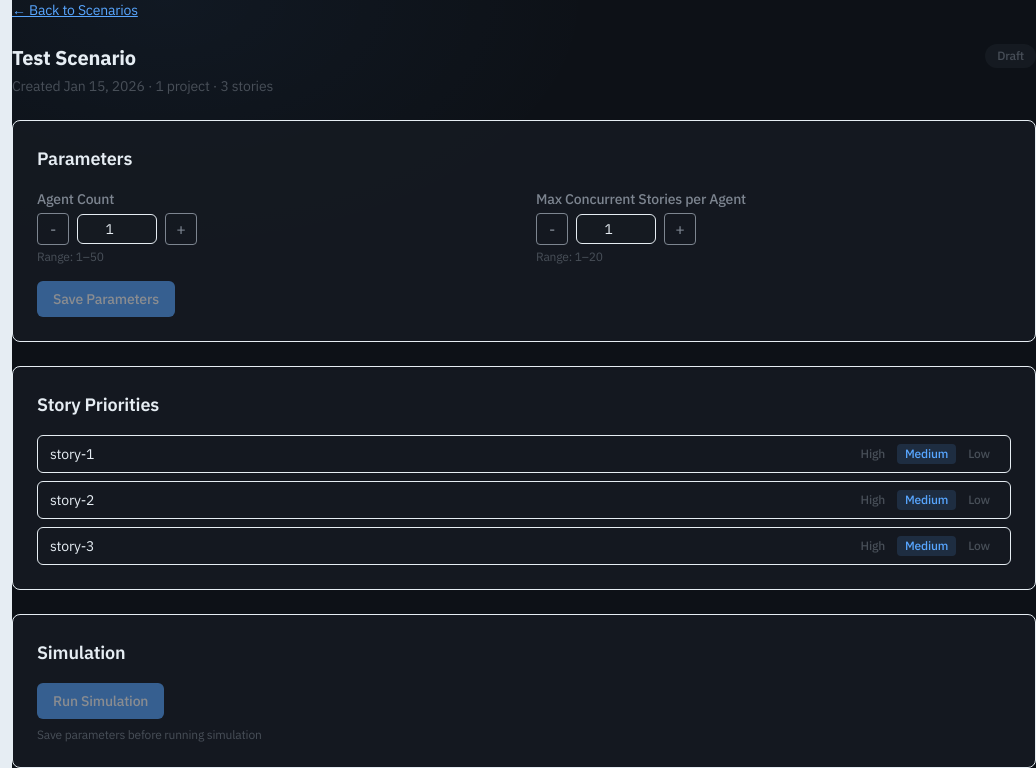
Test case: ScenarioDetail › priority change tracks the specific story and direction
Change story-2 to Low priority
Click the button "Low" in the row of "story-2" at (979, 500), box [960,490,998,510]
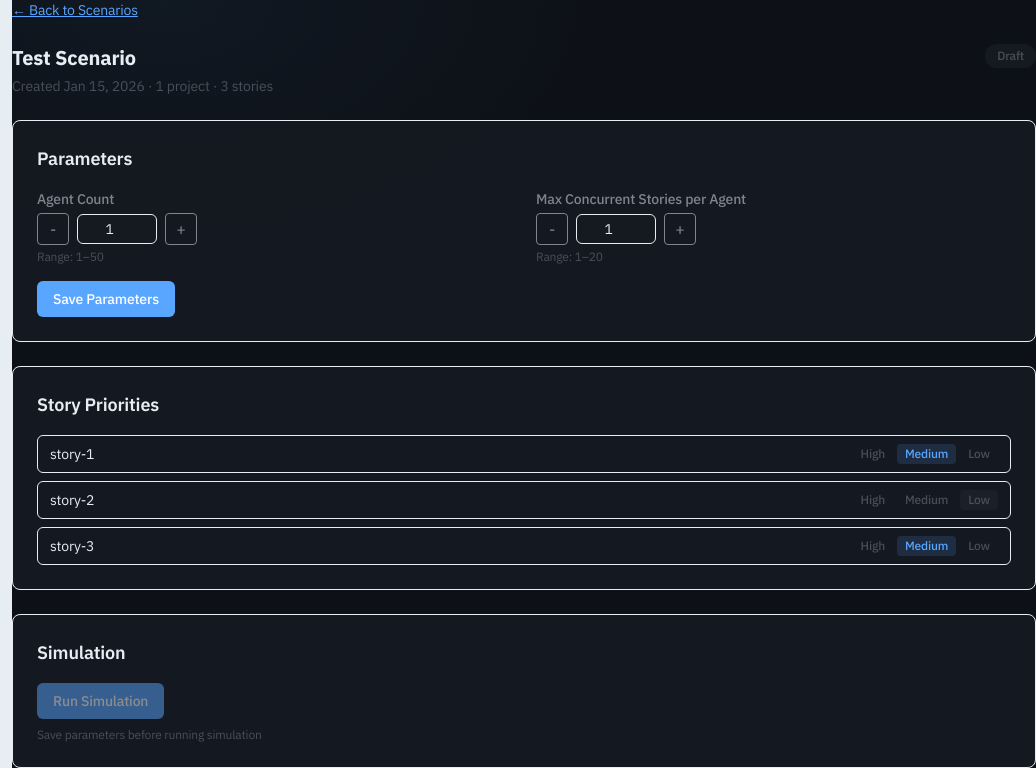
Change story-1 to High priority too
Click the button "High" in the row of "story-1" at (873, 454), box [852,444,893,464]
(page scrolled)
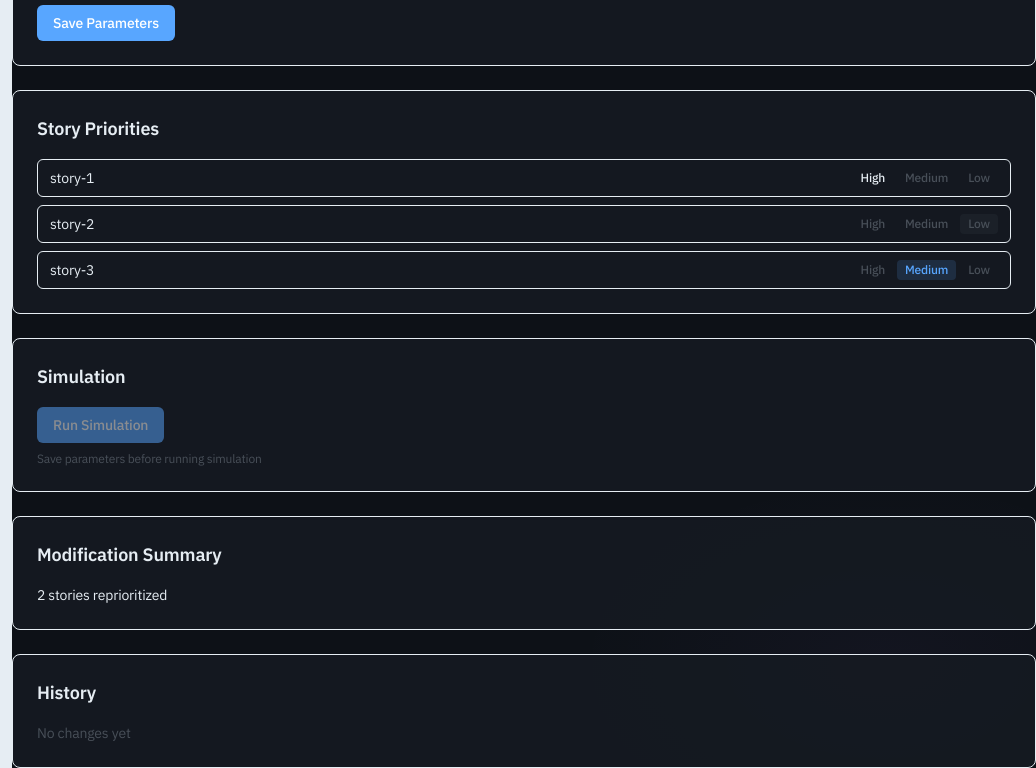
Check: the text "2 stories reprioritized" is shown, box [37,586,167,604]
